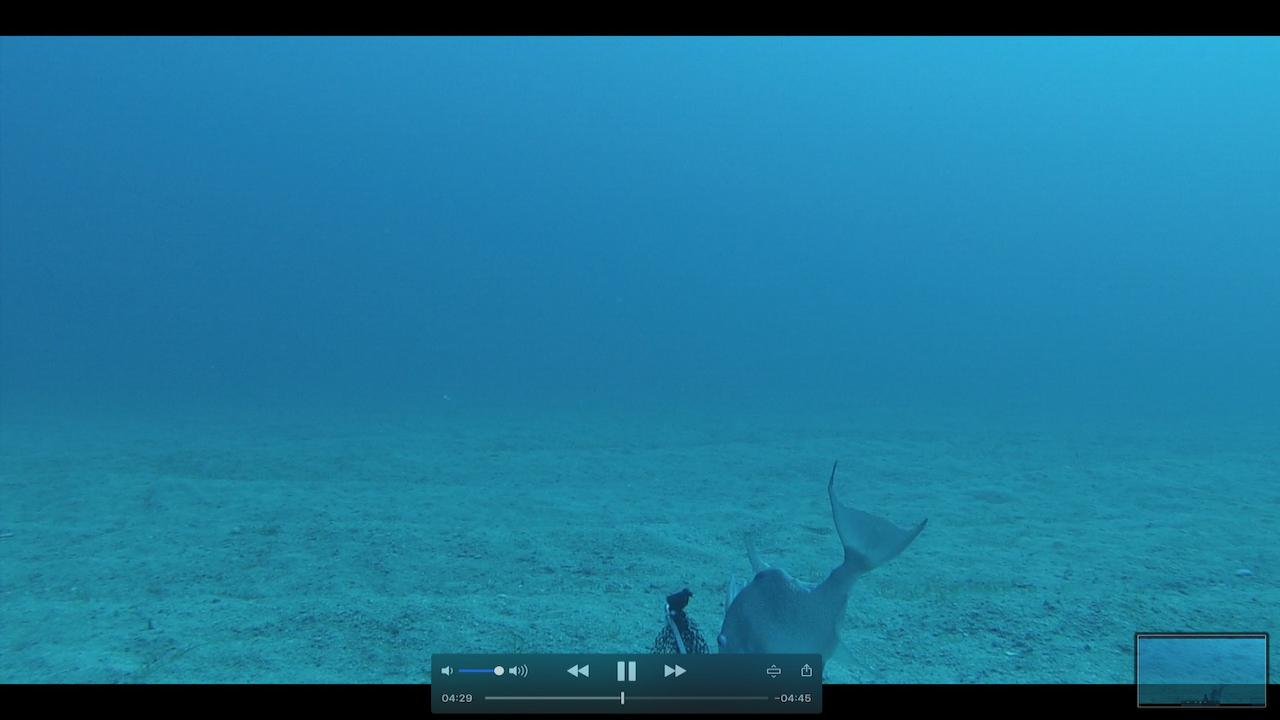balistes: (712, 456, 928, 654)
